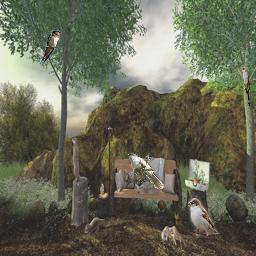Cuckoo: (124, 153, 164, 189), (240, 67, 250, 107)
Sparrow: (188, 198, 221, 238)
Swallow: (41, 30, 62, 62)
